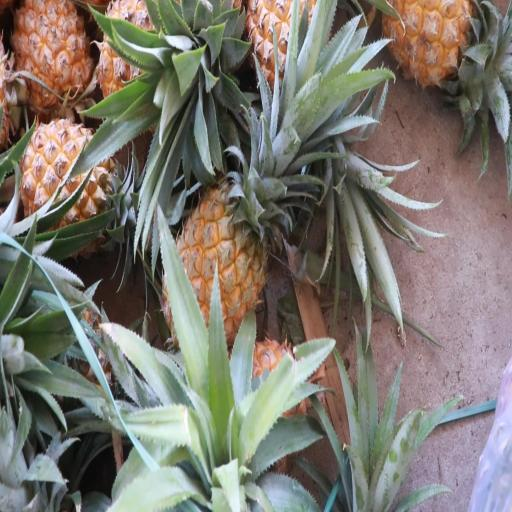Pineapple - v8 v1: (159, 162, 273, 368), (18, 114, 132, 268), (243, 0, 337, 116), (380, 0, 486, 100), (7, 0, 93, 121)
